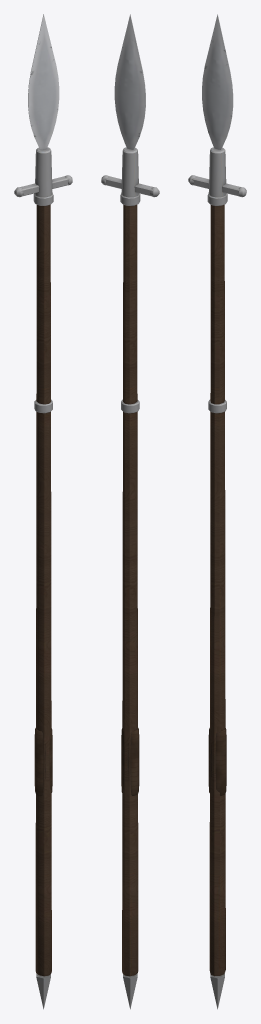
The model's file is spear.glb.
3 views of the same model, side by side, from view 1: azimuth 30°, elevation 25°; view 2: azimuth 150°, elevation 25°; view 3: azimuth 330°, elevation 25° (orthographic).
Parts seen in each view (by area): view 1: SM_V_spear; view 2: SM_V_spear; view 3: SM_V_spear.
Boxes of the visible parts, x1,y1,x2,y2 form: SM_V_spear: (14,14,72,1009); SM_V_spear: (101,14,159,1009); SM_V_spear: (188,14,246,1009).
Bounding box in the file's own units: 0.1517 × 2.54 × 0.0437.
1 material, 1 textured.
